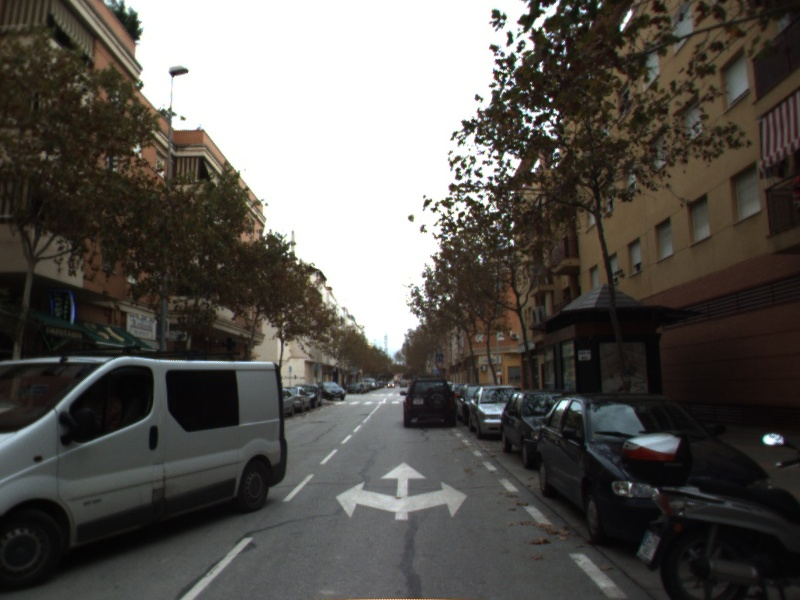STRAIGHT_LEFT_RIGHT: (333, 459, 470, 522)
